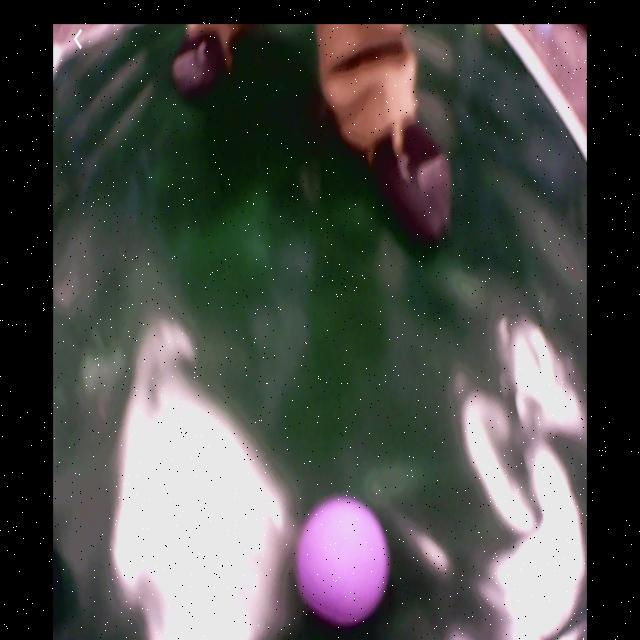ball: (296, 497, 391, 627)
